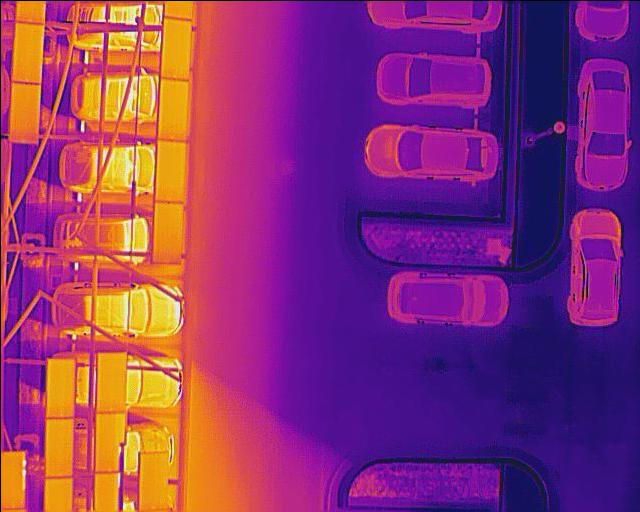No-Anomaly: (151, 199, 182, 262), (95, 352, 126, 412), (157, 77, 186, 140), (156, 139, 185, 202), (13, 21, 42, 82), (137, 451, 167, 509), (45, 358, 74, 417), (161, 17, 189, 78), (10, 82, 38, 142), (45, 416, 72, 477), (93, 414, 117, 471)
Unclassified: (0, 450, 26, 509)
